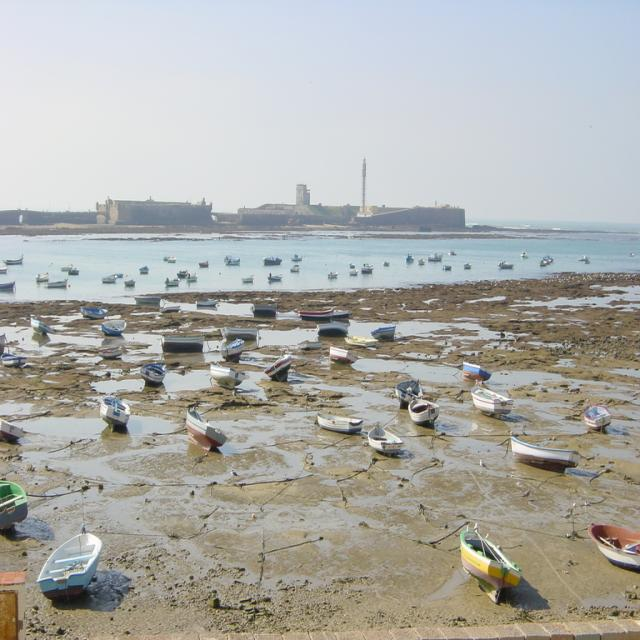Boat: (457, 536, 536, 605), (35, 524, 102, 598), (508, 434, 584, 472), (586, 520, 640, 571), (185, 404, 228, 452), (470, 384, 516, 418), (0, 478, 27, 532), (98, 392, 130, 434), (366, 421, 404, 456), (315, 408, 363, 435), (208, 358, 245, 390), (263, 345, 293, 384), (406, 396, 441, 429), (158, 334, 205, 352), (394, 380, 423, 406), (218, 335, 244, 362), (582, 405, 612, 428), (98, 315, 130, 336), (328, 342, 357, 365), (138, 358, 164, 383), (462, 360, 492, 381), (221, 325, 259, 341), (369, 322, 394, 345), (0, 351, 27, 372), (316, 319, 349, 336), (0, 417, 22, 441), (296, 309, 333, 323), (98, 344, 125, 362), (80, 306, 108, 321), (248, 303, 278, 316), (344, 333, 370, 348), (30, 315, 50, 334), (157, 304, 183, 314), (297, 340, 323, 350), (2, 255, 24, 266), (194, 298, 218, 308), (261, 253, 281, 265), (163, 276, 182, 288), (499, 258, 514, 271), (44, 279, 68, 287), (359, 263, 375, 275), (539, 253, 555, 265), (223, 254, 242, 264), (241, 273, 255, 286), (287, 263, 301, 274), (36, 272, 50, 282), (175, 267, 189, 277), (100, 274, 117, 282), (335, 310, 352, 318), (328, 268, 339, 280), (347, 265, 358, 277), (578, 253, 589, 265), (0, 331, 6, 352), (428, 252, 442, 261), (138, 264, 150, 274), (66, 266, 79, 275), (200, 258, 210, 269), (415, 257, 426, 267), (269, 272, 282, 280), (290, 253, 303, 261), (185, 272, 197, 280), (406, 252, 414, 264), (167, 254, 177, 263), (124, 279, 135, 287), (448, 247, 457, 256), (60, 265, 71, 272), (384, 256, 391, 267), (465, 260, 471, 272), (442, 265, 452, 272), (348, 259, 356, 267), (520, 249, 528, 257), (0, 267, 7, 275), (113, 270, 124, 275), (629, 251, 634, 260), (163, 255, 166, 261)
